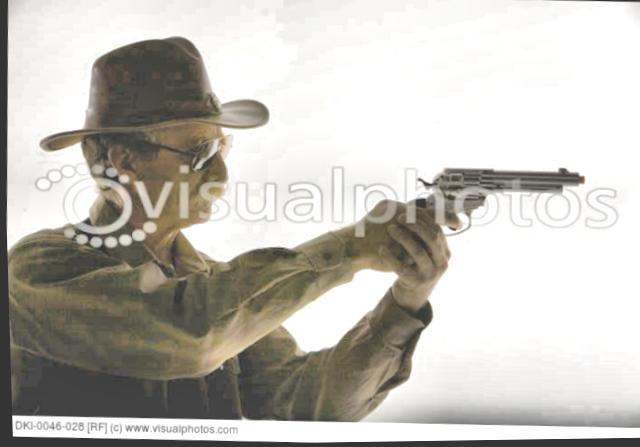pistol: (376, 158, 587, 250)
